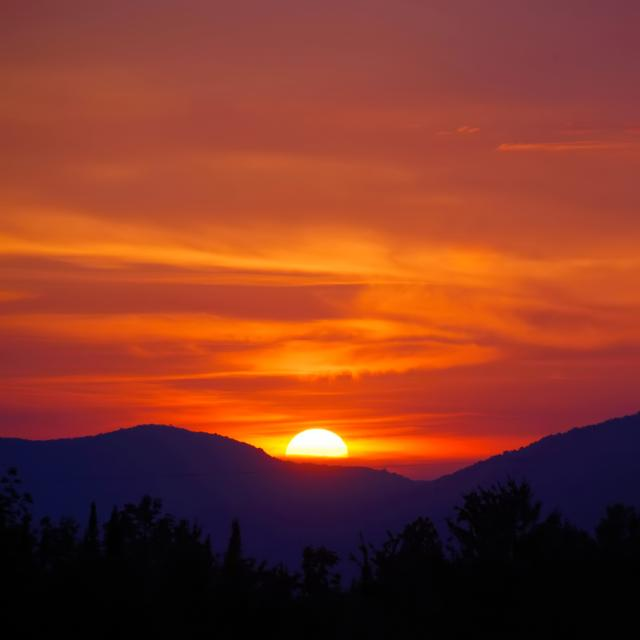no_fire: (26, 132, 554, 515)
